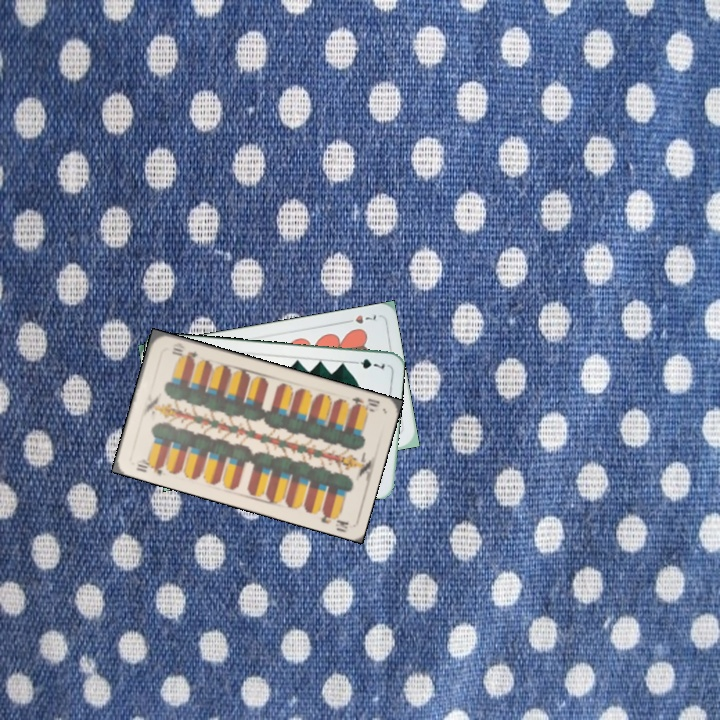E10: (132, 455, 166, 478), (348, 393, 382, 415)
G7: (348, 355, 388, 373)
H7: (340, 311, 379, 326)
